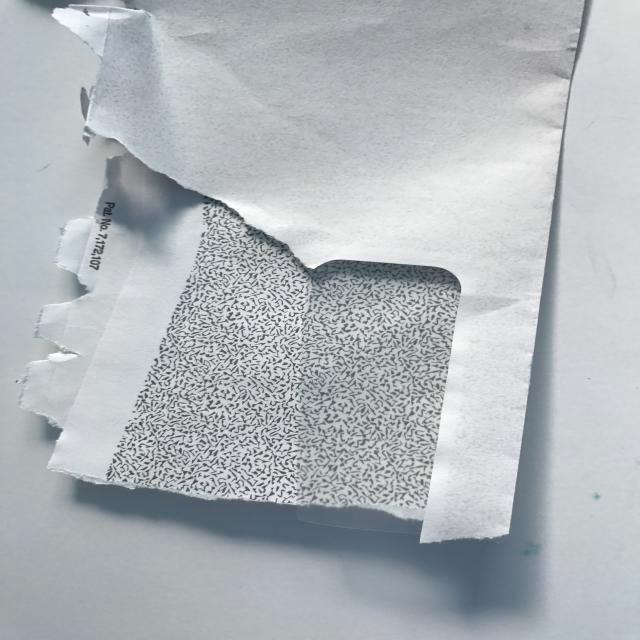paper: (39, 0, 594, 552)
